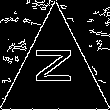N_W: (33, 53, 77, 93)
